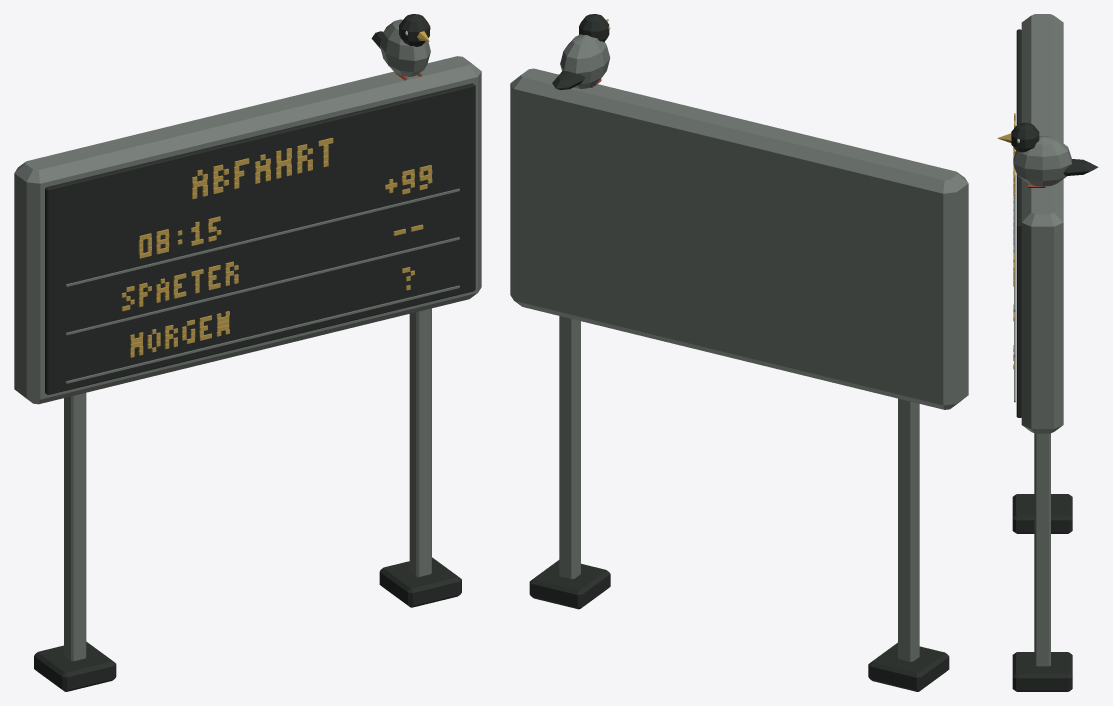
File: departure-board.glb
3 renders of one model, left to right at view 1: azimuth 30°, elevation 25°; view 2: azimuth 150°, elevation 25°; view 3: azimuth 270°, elevation 25°, orthographic. The views are drawn at different scales.
Parts seen in each view (by area): view 1: departure-board; view 2: departure-board; view 3: departure-board.
Boxes of the visible parts, box(x1,y1,x2,y2) form: departure-board: box(14, 14, 481, 691); departure-board: box(510, 14, 968, 691); departure-board: box(997, 14, 1098, 691).
Bounding box in the file's own units: 2.95 × 3.64 × 0.608.
